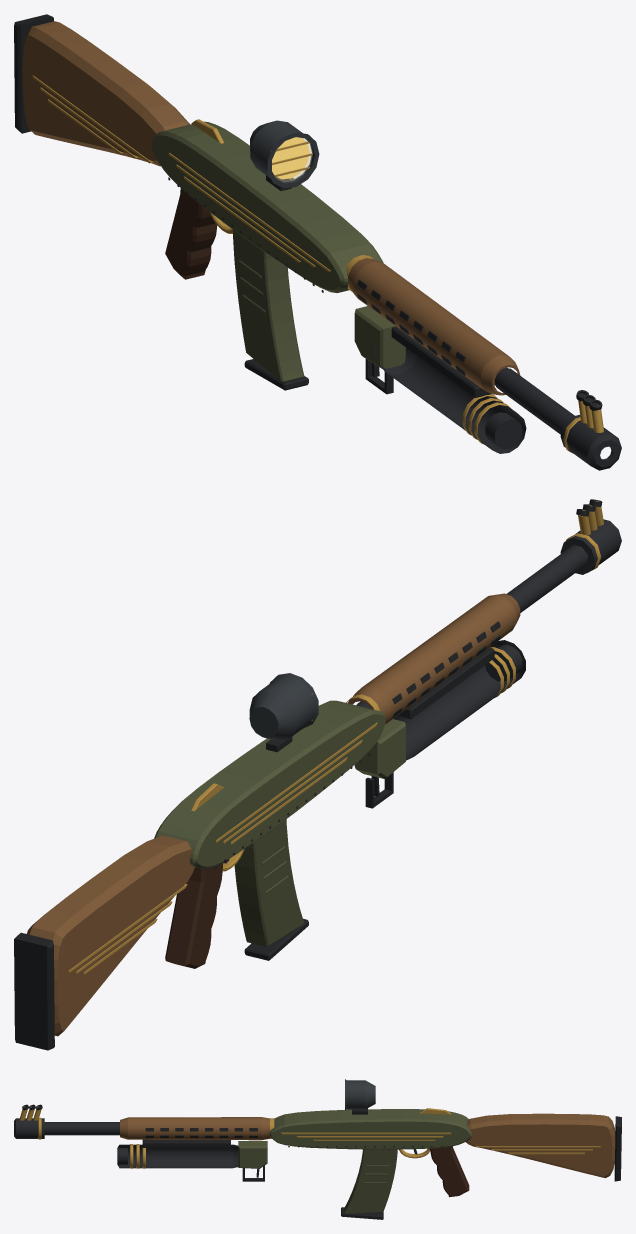
The model's file is diesel-rifle.glb.
3 renders of one model, top to bottom at view 1: azimuth 30°, elevation 25°; view 2: azimuth 150°, elevation 25°; view 3: azimuth 270°, elevation 25°, orthographic. The views are drawn at different scales.
Visible parts, largest first — view 1: Receiver, Stock, Underbarrel, Handguard, Magazine, Optic, Grip, Muzzle, Barrel; view 2: Stock, Receiver, Underbarrel, Handguard, Magazine, Grip, Optic, Muzzle, Barrel; view 3: Receiver, Stock, Underbarrel, Handguard, Magazine, Grip, Barrel, Optic, Muzzle.
Boxes of the visible parts, left/top/right/bottom form: Receiver: left=151, top=119, right=383, bottom=292; Stock: left=14, top=14, right=189, bottom=166; Underbarrel: left=354, top=306, right=526, bottom=453; Handguard: left=346, top=255, right=520, bottom=395; Magazine: left=233, top=230, right=308, bottom=390; Optic: left=250, top=120, right=319, bottom=190; Grip: left=165, top=188, right=216, bottom=279; Muzzle: left=560, top=390, right=621, bottom=470; Barrel: left=494, top=367, right=574, bottom=434; Stock: left=14, top=835, right=194, bottom=1050; Receiver: left=154, top=700, right=385, bottom=871; Underbarrel: left=354, top=640, right=525, bottom=808; Handguard: left=346, top=593, right=520, bottom=724; Magazine: left=234, top=819, right=308, bottom=960; Grip: left=165, top=862, right=223, bottom=968; Optic: left=249, top=673, right=318, bottom=752; Muzzle: left=560, top=499, right=621, bottom=574; Barrel: left=356, top=545, right=587, bottom=708; Receiver: left=269, top=1108, right=472, bottom=1158; Stock: left=466, top=1113, right=621, bottom=1181; Underbarrel: left=117, top=1139, right=267, bottom=1181; Handguard: left=120, top=1117, right=274, bottom=1140; Magazine: left=341, top=1149, right=397, bottom=1219; Grip: left=430, top=1146, right=469, bottom=1197; Barrel: left=44, top=1122, right=119, bottom=1135; Optic: left=345, top=1079, right=375, bottom=1114; Muzzle: left=14, top=1104, right=44, bottom=1139.
Bounding box in the file's own units: 0.0596 × 0.2841 × 1.15.
